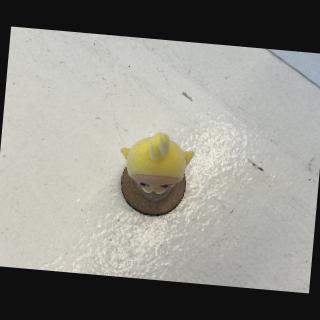teletubby: (121, 133, 195, 194)
